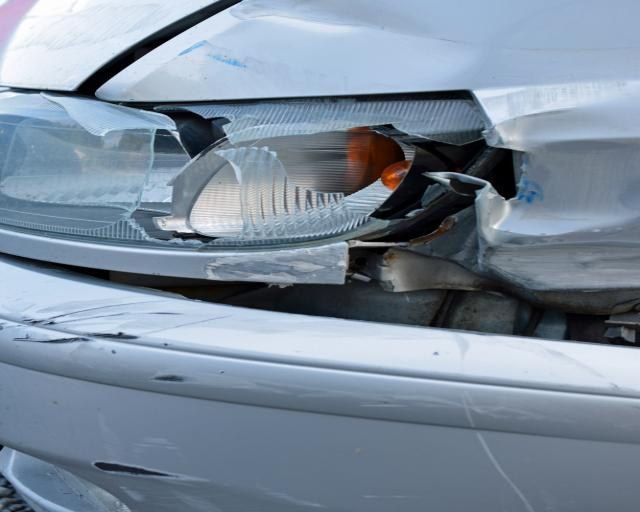dent: (488, 110, 639, 237), (233, 3, 462, 72)
lamp broken: (0, 90, 490, 249)
scratch: (0, 296, 615, 419), (85, 429, 342, 512), (0, 2, 185, 52)
